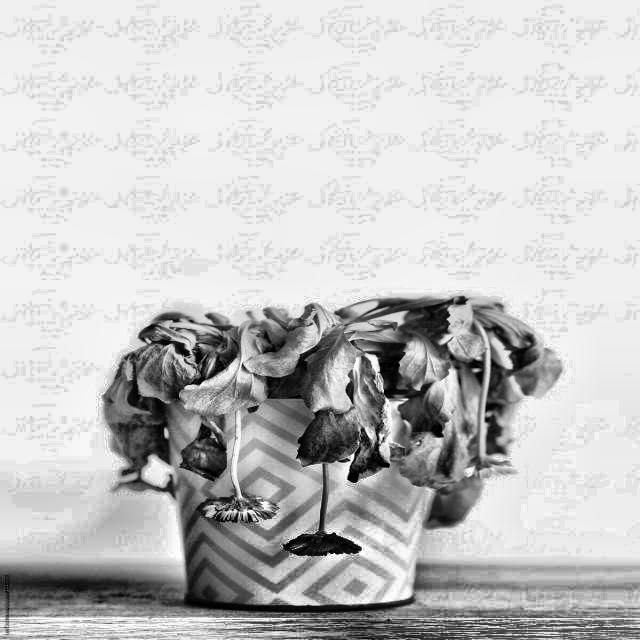plants: (93, 287, 558, 615)
